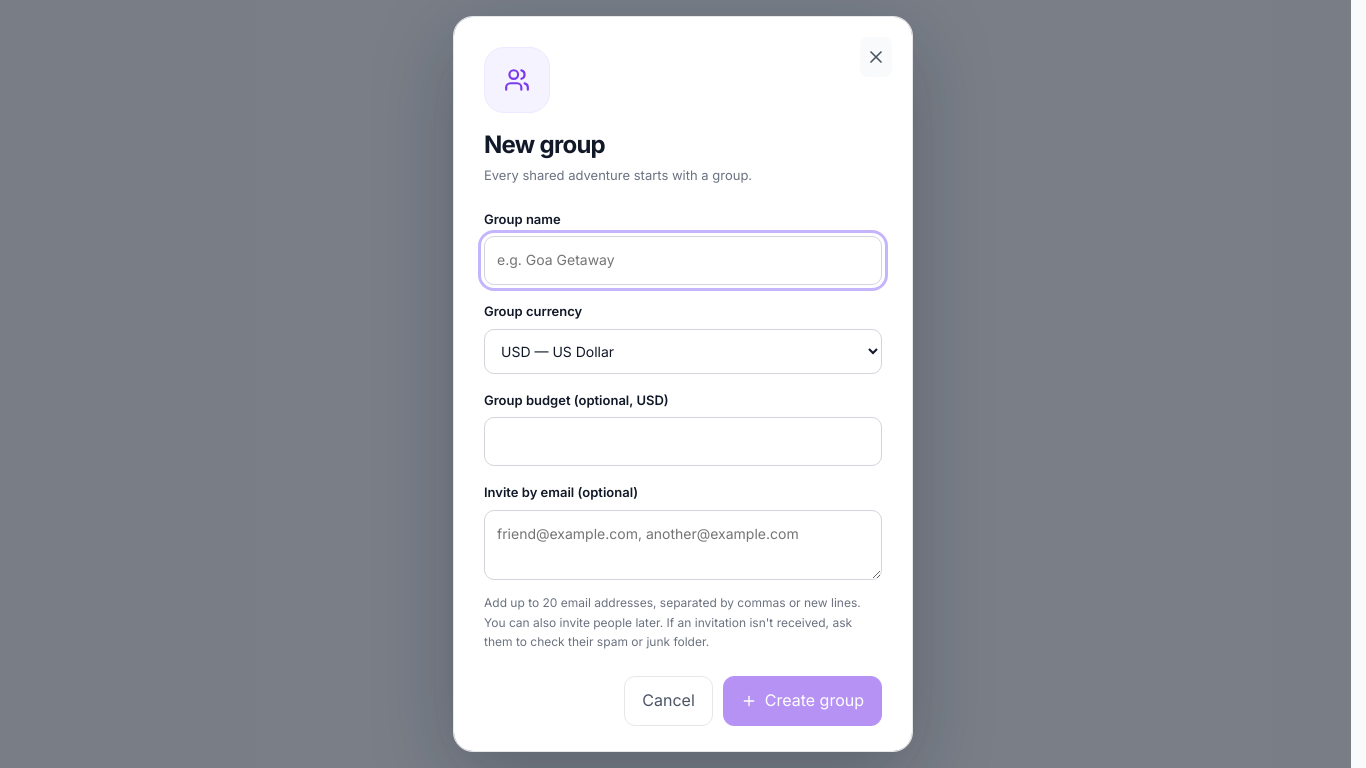
Test case: retries a failed invitation without recreating the group or resending successful invitations
Type "  Weekend trip  " into the field labelled "Group name" at (683, 261), box [484,236,882,285]
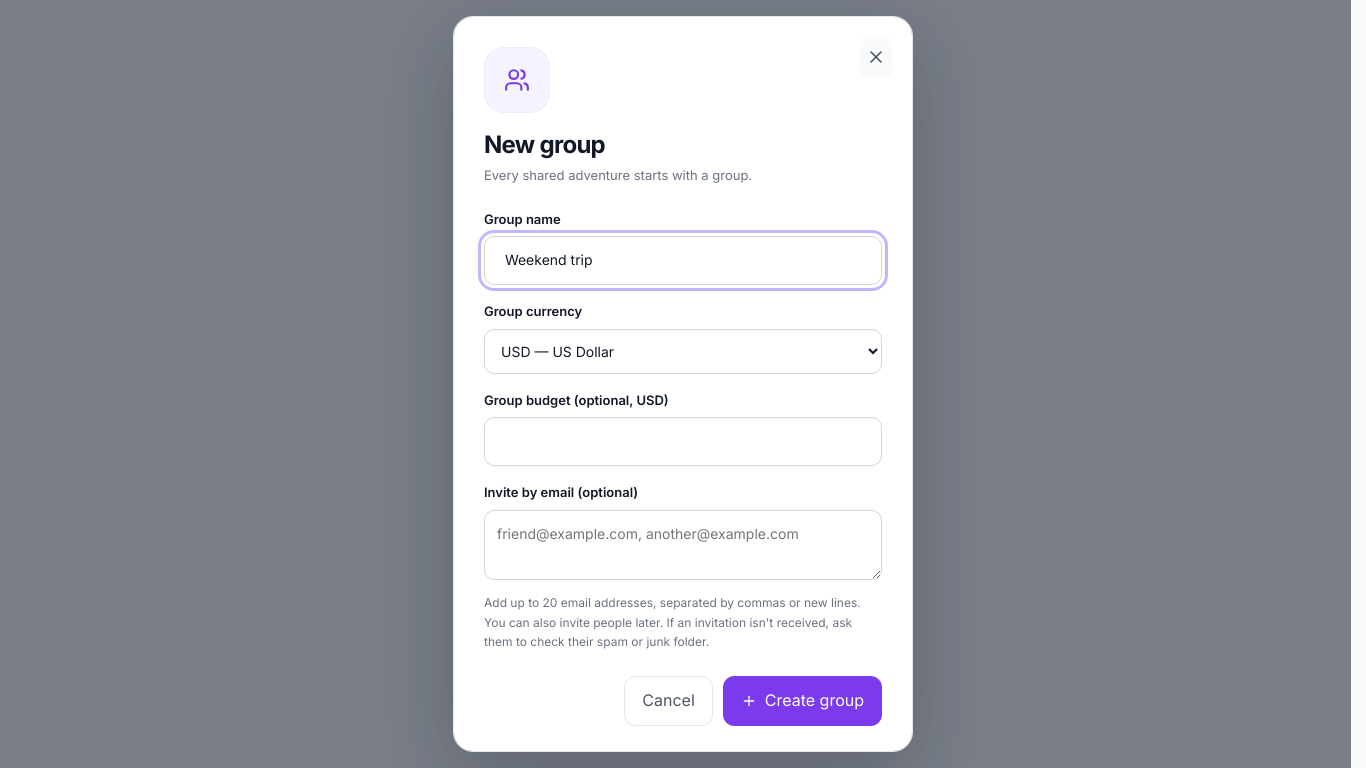
Type "first@example.test, second@example.test" into the text box labelled "Invite by email (optional)" at (683, 545), box [484,510,882,580]
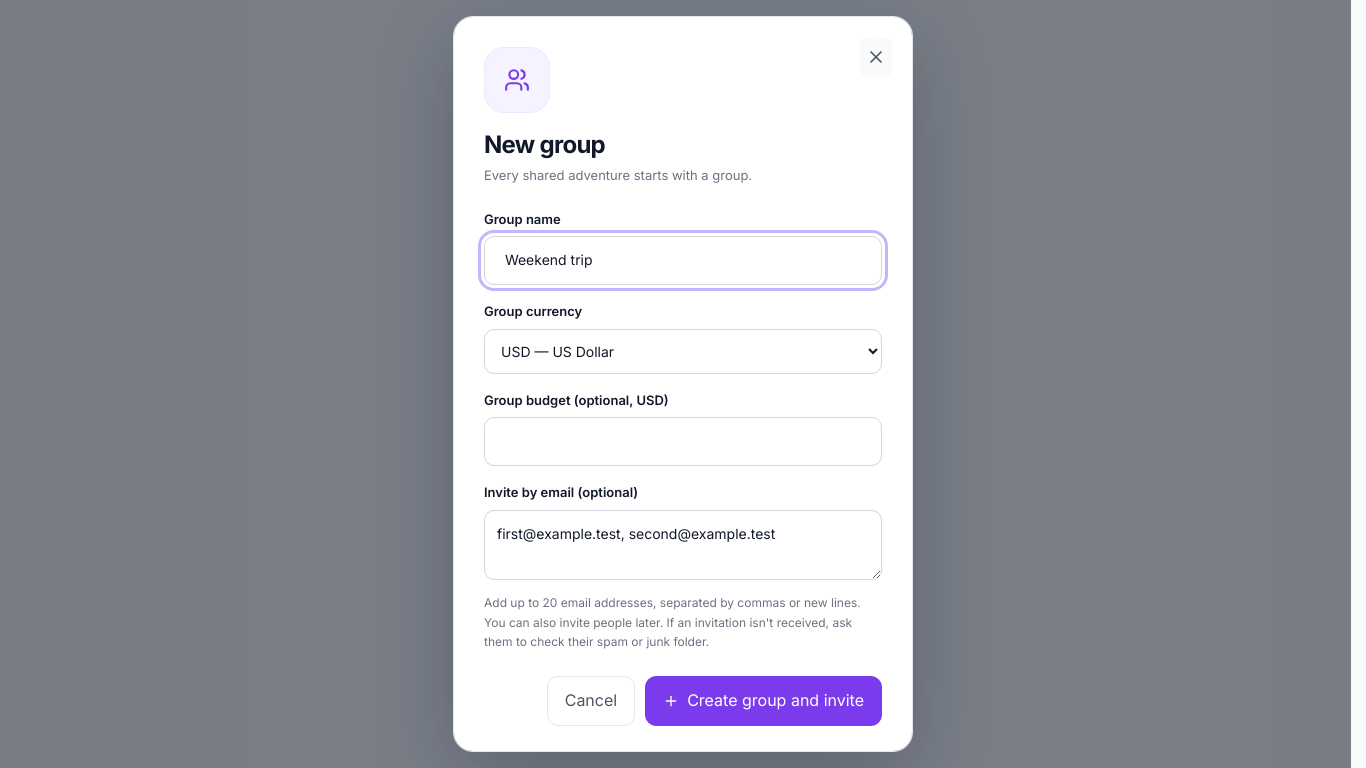
Click the button "Create group and invite" at (764, 701), box [645,676,882,726]
(page scrolled)
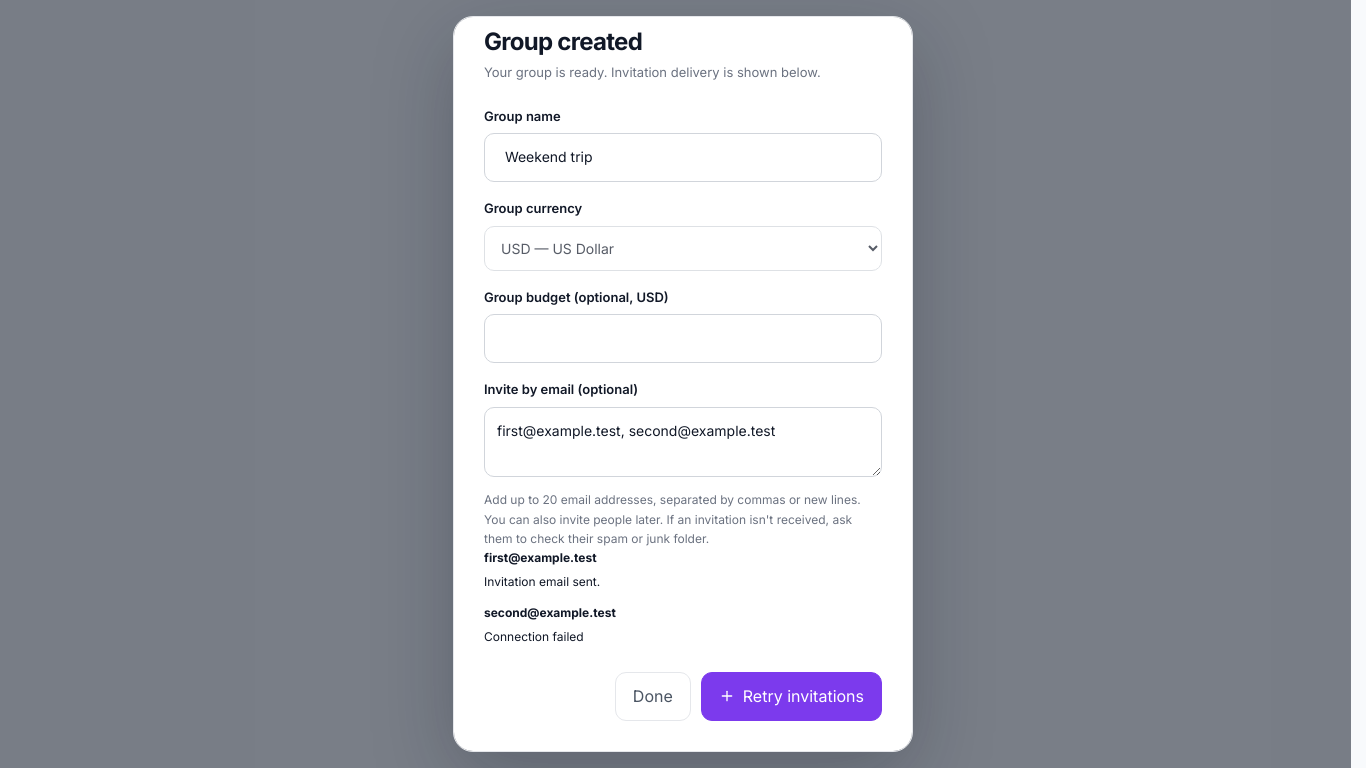
Check: the message "Connection failed" is shown, box [484,630,584,644]
Click the button "Retry invitations" at (791, 696), box [701,672,882,721]
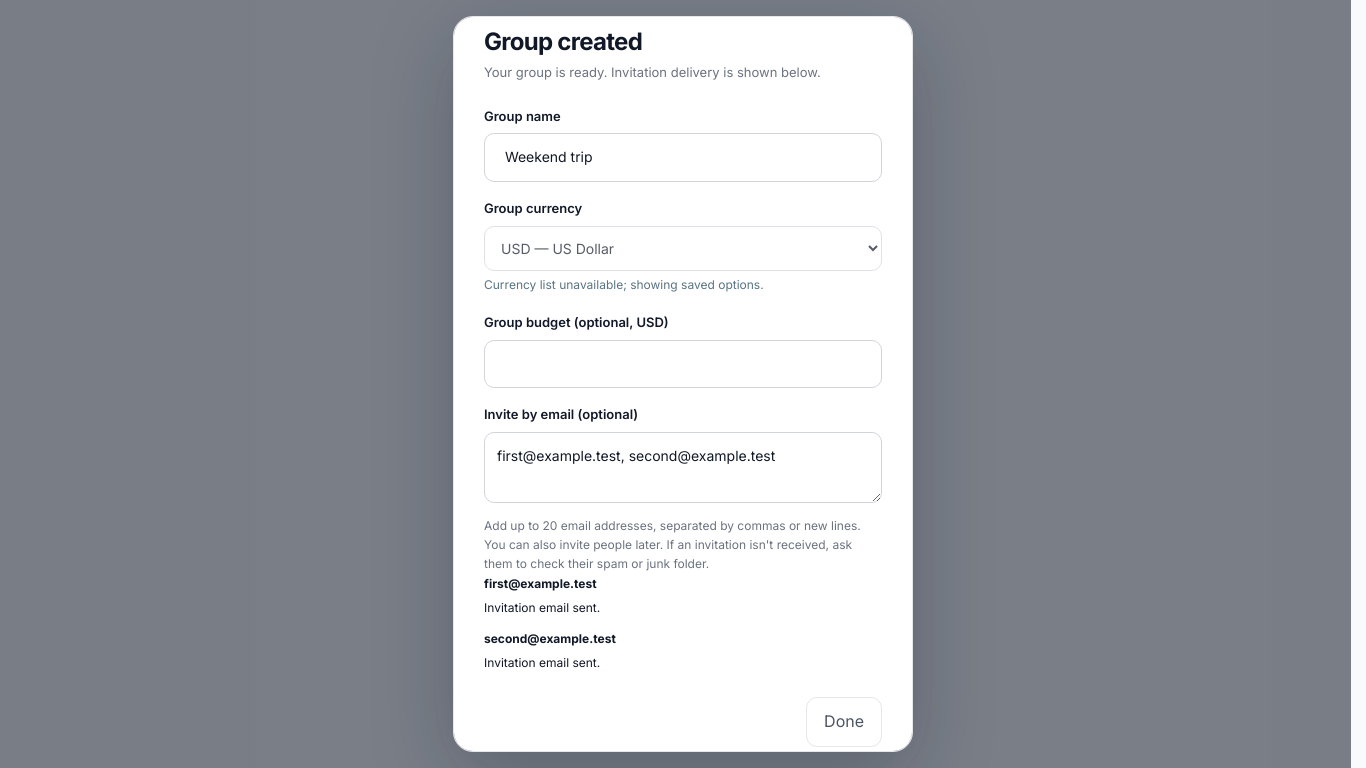
Check: the button "Retry invitations" is gone
